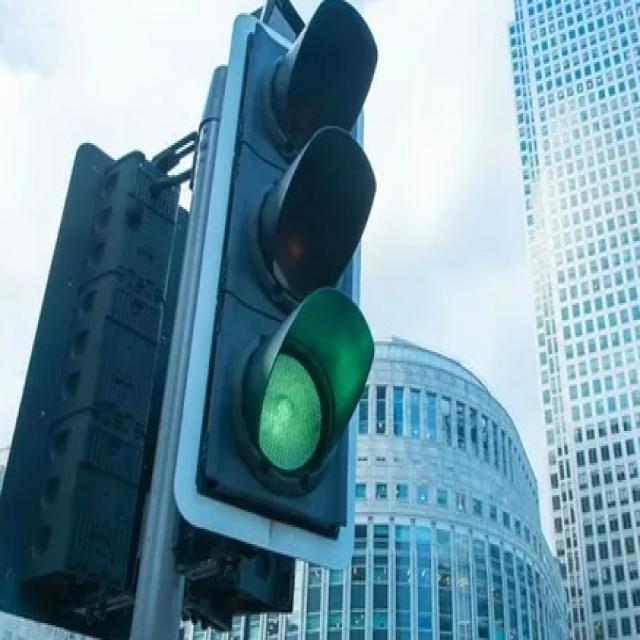yesil: (199, 2, 378, 530)
